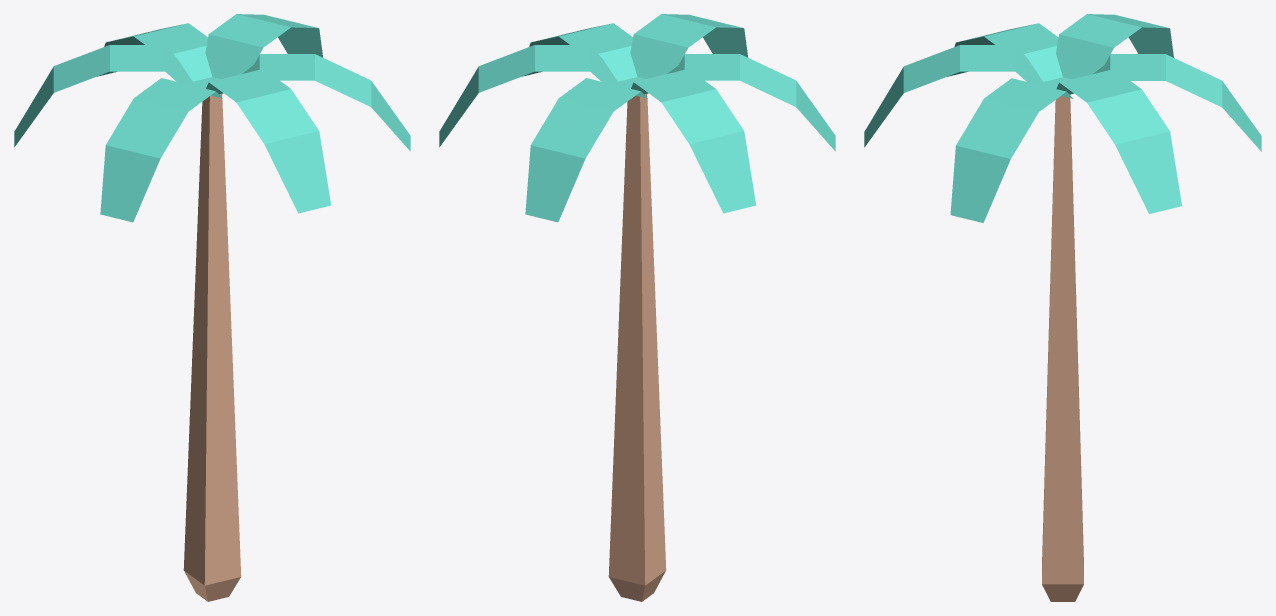
The model's file is tree_palm.gltf.
3 renders of one model, left to right at view 1: azimuth 30°, elevation 25°; view 2: azimuth 150°, elevation 25°; view 3: azimuth 270°, elevation 25°, orthographic.
Visible parts, largest first — view 1: tree_palm; view 2: tree_palm; view 3: tree_palm.
Part boxes in pixels (x1,y1,x2,y2): tree_palm: (14,14,410,601); tree_palm: (439,14,835,601); tree_palm: (864,14,1261,601).
Bounding box in the file's own units: 0.9355 × 1.51 × 1.01.
